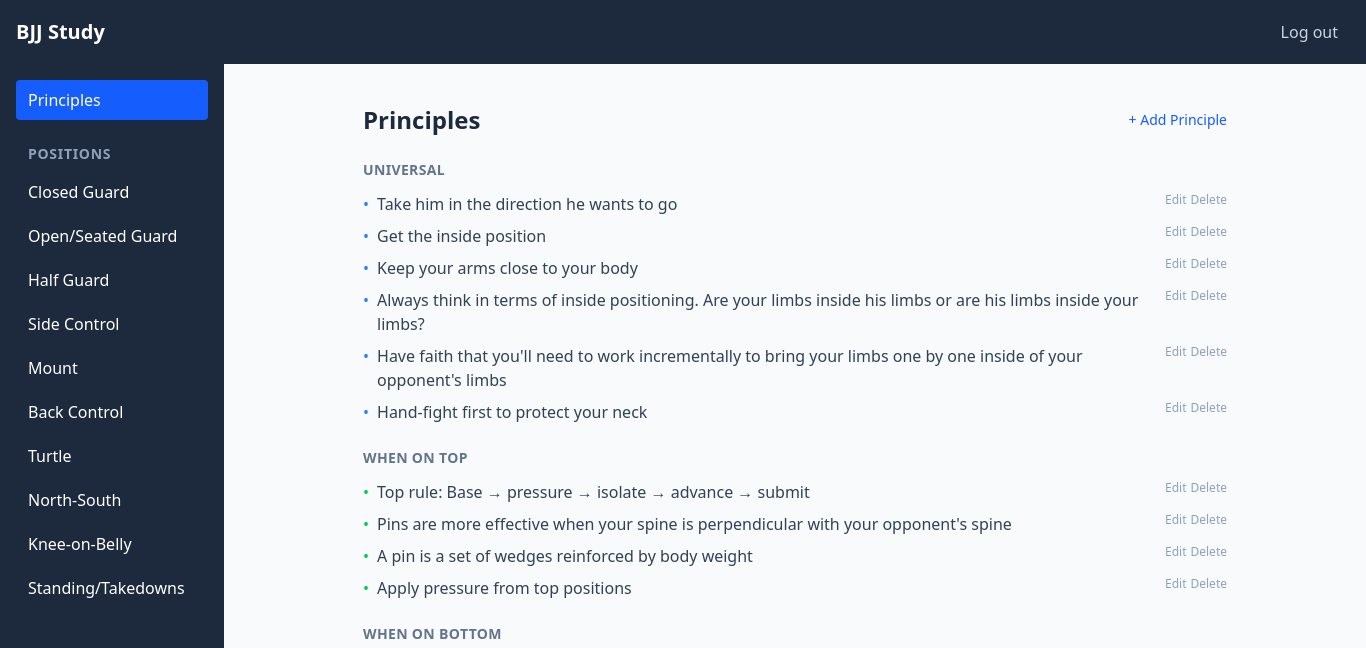
Scenario: App › adds a note to a technique
The width and height of the screenshot is (1366, 648).
Note: Go to position view
Click the button "Closed Guard". click: [112, 192]
box: [16, 172, 208, 212]
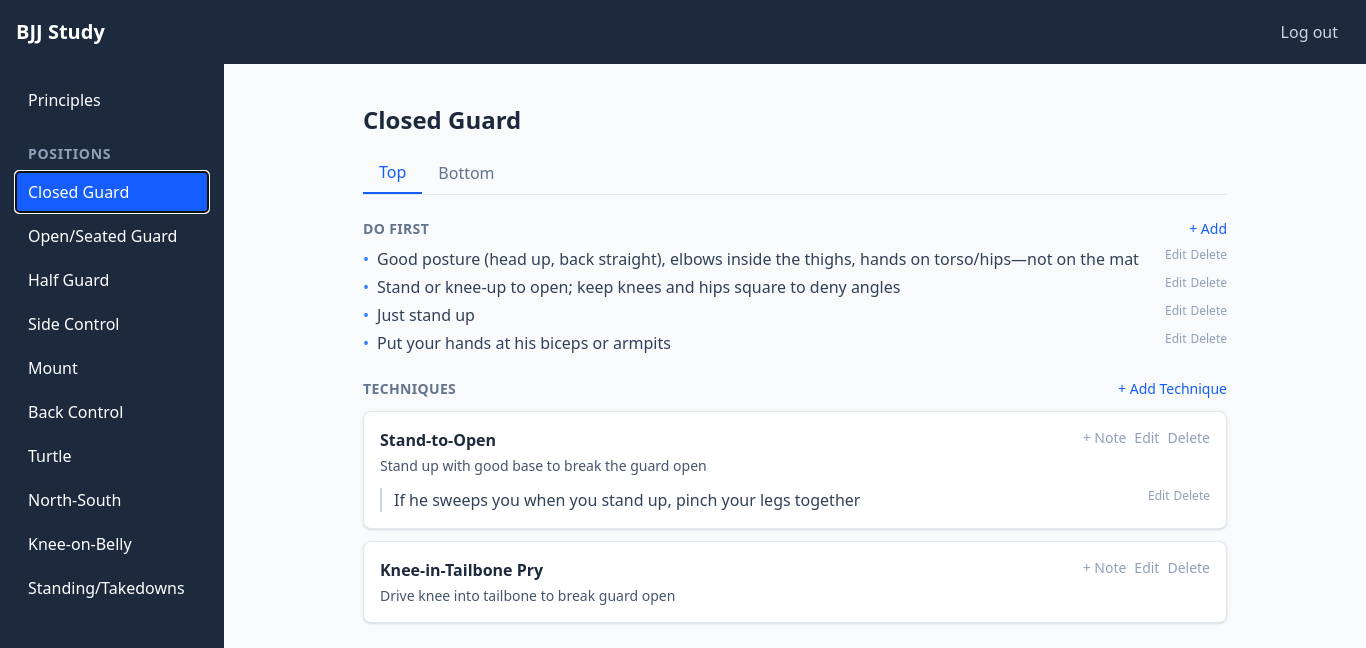
Note: Find a technique and add a note
Click the button "+ Note" in the row of "Stand-to-Open". click: [1104, 438]
box: [1083, 428, 1126, 448]
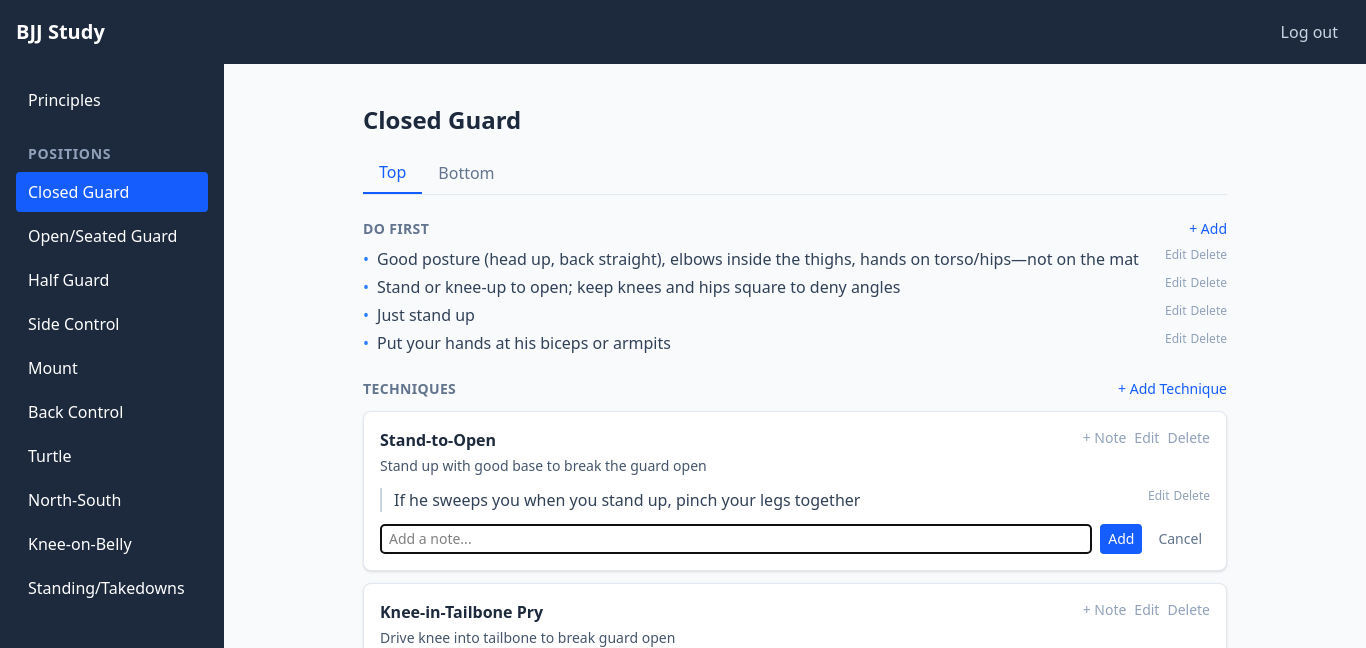
Type "My personal note" into the field with placeholder "Add a note...". click: [736, 539]
box: [380, 524, 1092, 554]
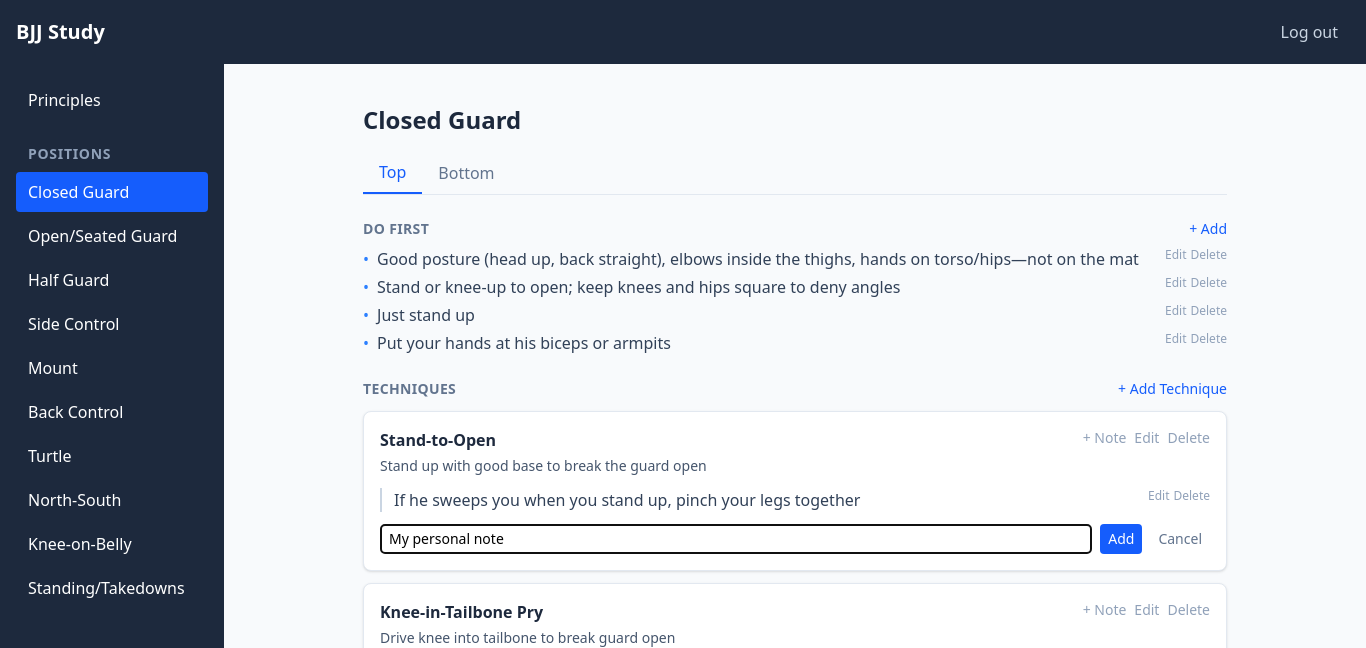
Click the button "Add". click: [1121, 539]
box: [1100, 524, 1142, 554]
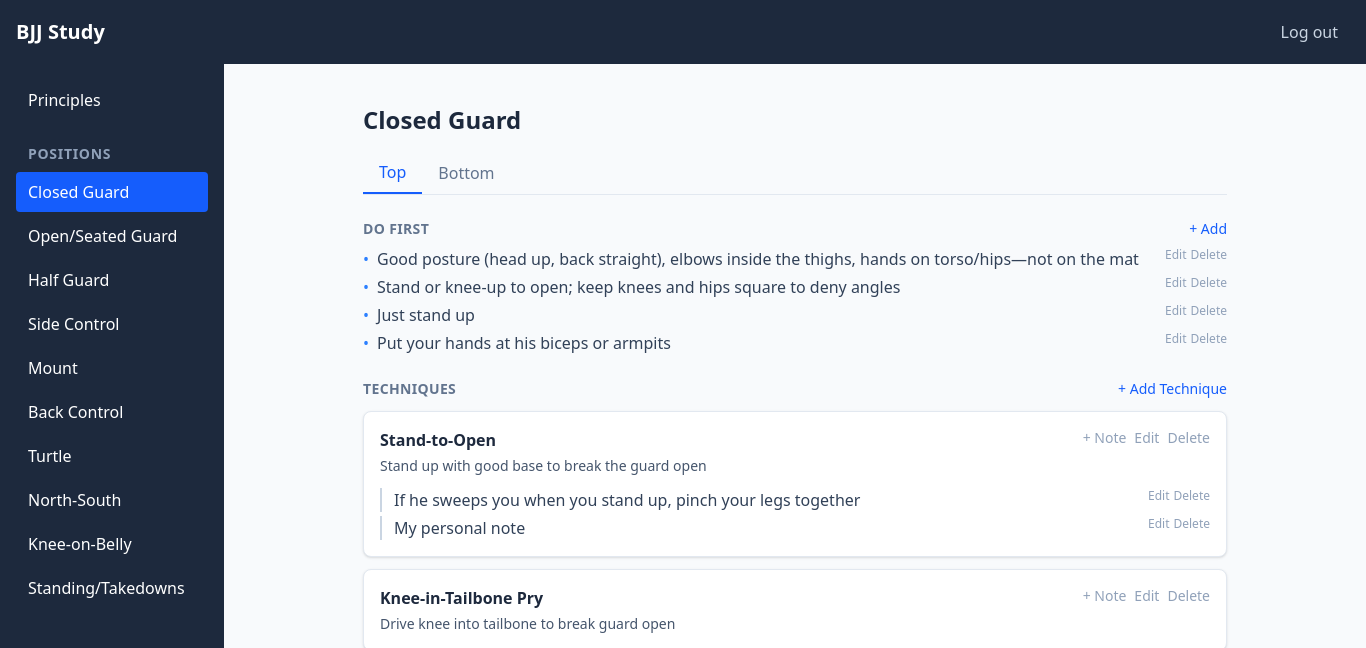
Check: the text "My personal note" is shown, box [394, 517, 525, 539]
